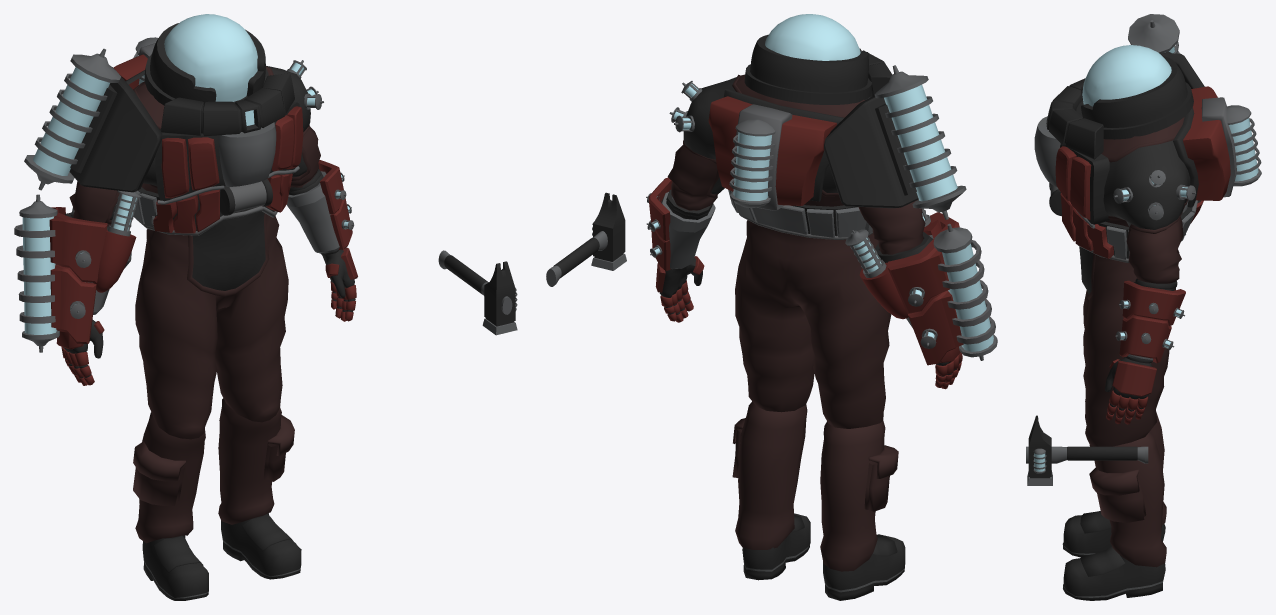
File: TeslaTrooper.fbx
3 renders of one model, left to right at view 1: azimuth 30°, elevation 25°; view 2: azimuth 150°, elevation 25°; view 3: azimuth 270°, elevation 25°, orthographic. The views are drawn at different scales.
Visible parts, largest first — view 1: TeslaTropperArmor, TeslaTrooperJumpsuit, hammor; view 2: TeslaTropperArmor, TeslaTrooperJumpsuit, hammor; view 3: TeslaTropperArmor, TeslaTrooperJumpsuit, hammor.
Boxes of the visible parts, x1,y1,x2,y2 form: TeslaTropperArmor: (14, 14, 357, 385); TeslaTrooperJumpsuit: (69, 66, 320, 600); hammor: (438, 250, 517, 335); TeslaTropperArmor: (646, 14, 997, 389); TeslaTrooperJumpsuit: (667, 74, 925, 600); hammor: (546, 192, 626, 286); TeslaTropperArmor: (1034, 14, 1261, 424); TeslaTrooperJumpsuit: (1062, 117, 1190, 600); hammor: (1026, 415, 1148, 485).
Bounding box in the file's own units: 1.76 × 2.09 × 0.8531.
